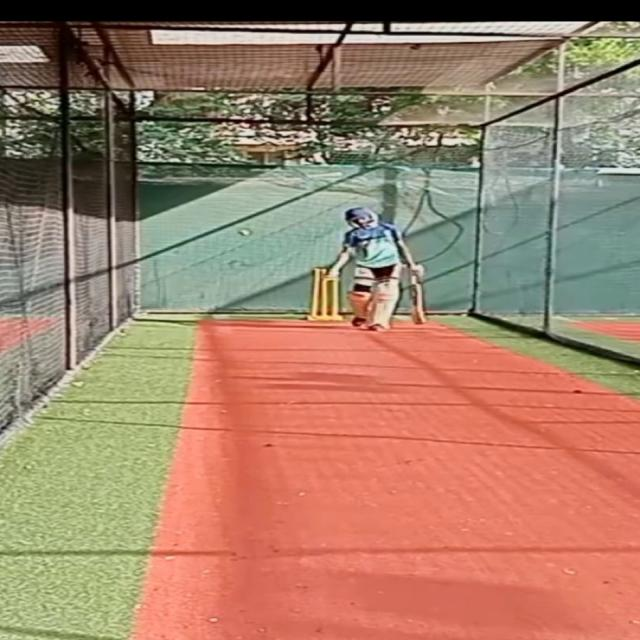stump: (306, 266, 340, 321)
